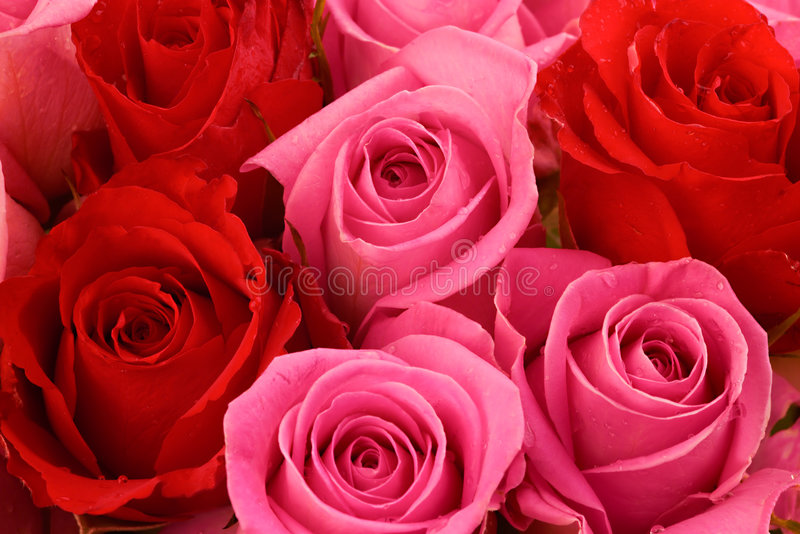RedRose: (11, 179, 302, 534), (551, 2, 800, 328), (77, 0, 335, 202)
